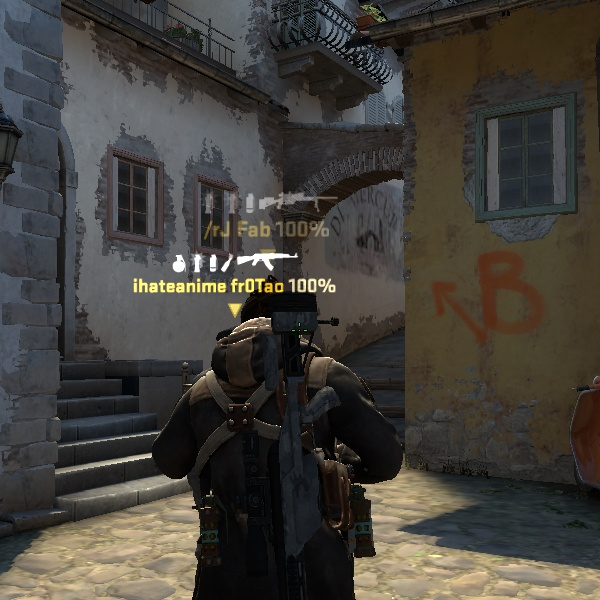t_body: (144, 310, 403, 598)
t_head: (198, 324, 287, 412)
